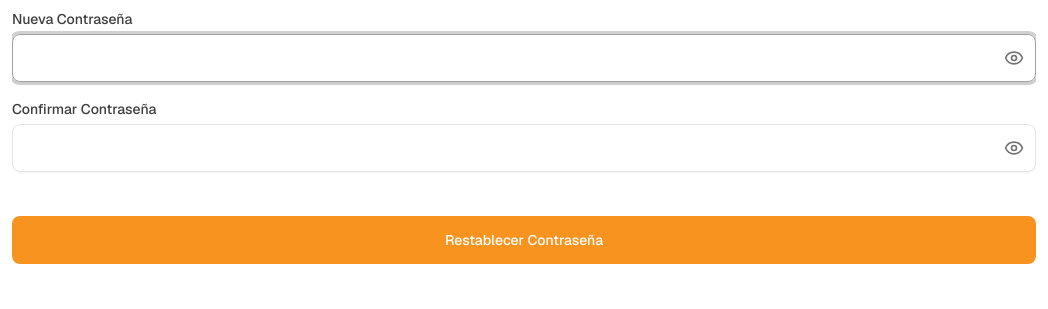
it: PasswordConfirmForm › Form Validation › shows error when confirm password is empty
The image size is (1048, 309).
Step 1. Type "password123" into the password field labelled "Nueva Contraseña" → (524, 58), box x1=12 y1=34 x2=1036 y2=82
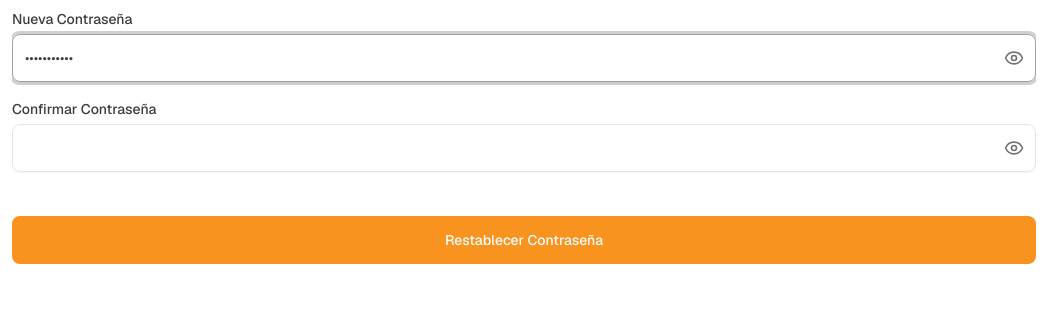
Step 2. Click the button "Restablecer Contraseña" → (524, 240), box x1=12 y1=216 x2=1036 y2=264
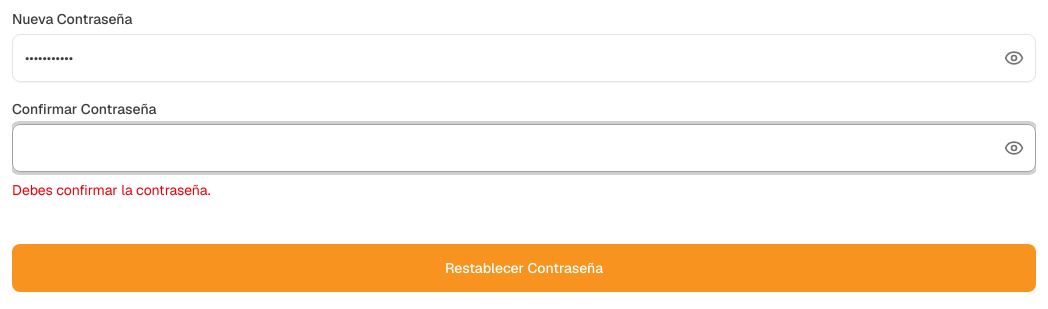
Expected: the text "Debes confirmar la contraseña." is shown, x1=12 y1=181 x2=211 y2=199
